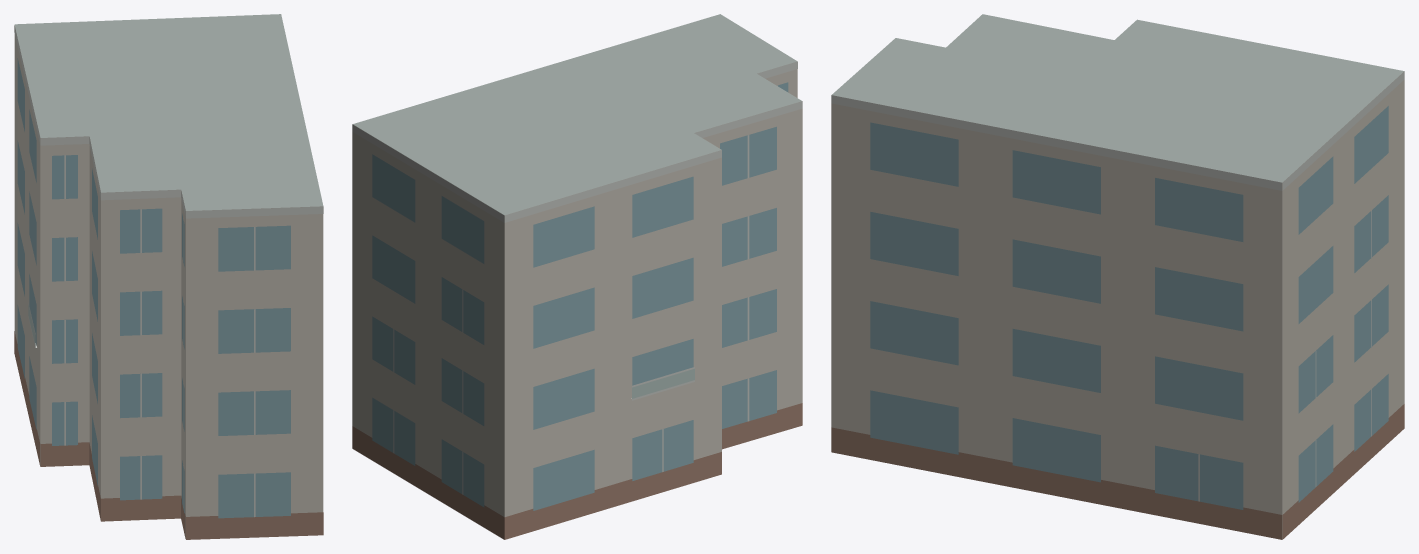
File: survey-upis-32494016.glb
The picture shows the model from 3 angles, left to right: view 1: azimuth 30°, elevation 25°; view 2: azimuth 150°, elevation 25°; view 3: azimuth 270°, elevation 25°; orthographic projection. The views are drawn at different scales.
Visible parts, largest first — view 1: survey-upis-32494016.tmp; view 2: survey-upis-32494016.tmp; view 3: survey-upis-32494016.tmp.
Part boxes in pixels (x1,y1,x2,y2): survey-upis-32494016.tmp: (14,14,323,539); survey-upis-32494016.tmp: (352,14,802,539); survey-upis-32494016.tmp: (831,14,1404,539).
Bounding box in the file's own units: 10.64 × 10.5 × 15.28.
